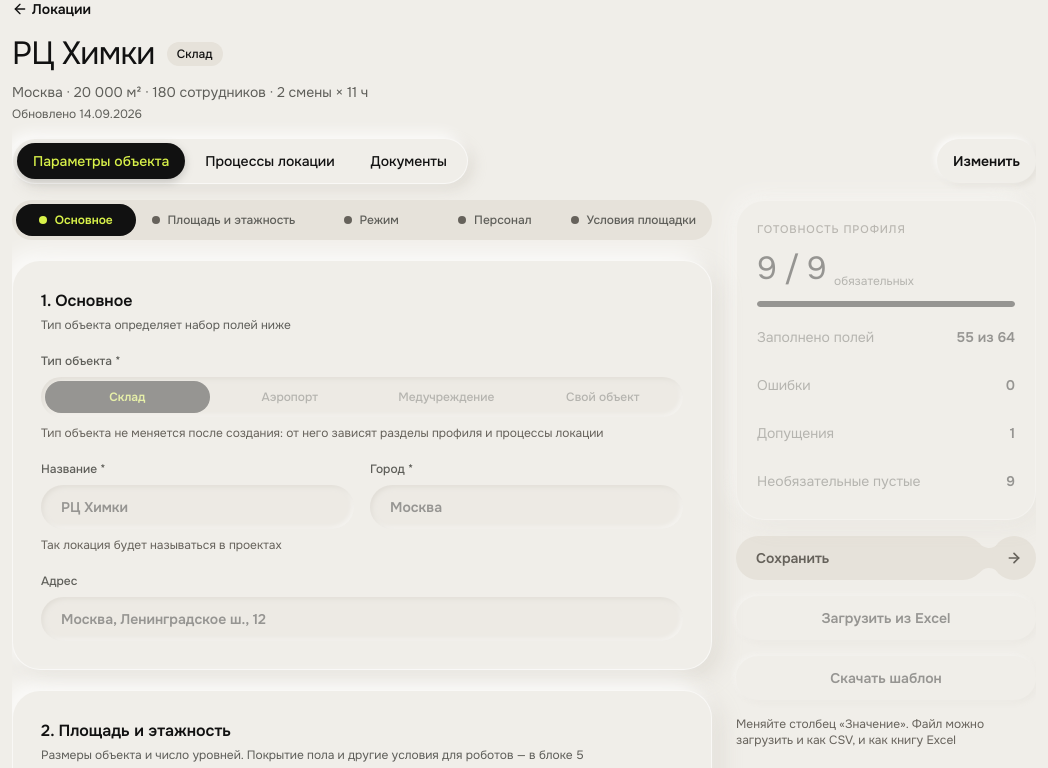
Test: LocationParamsPage (экран 17а) › discards changes on «Отменить изменения»
Click the button with aria-label "Изменить параметры объекта" at (987, 161), box left=937, top=139, right=1036, bottom=183
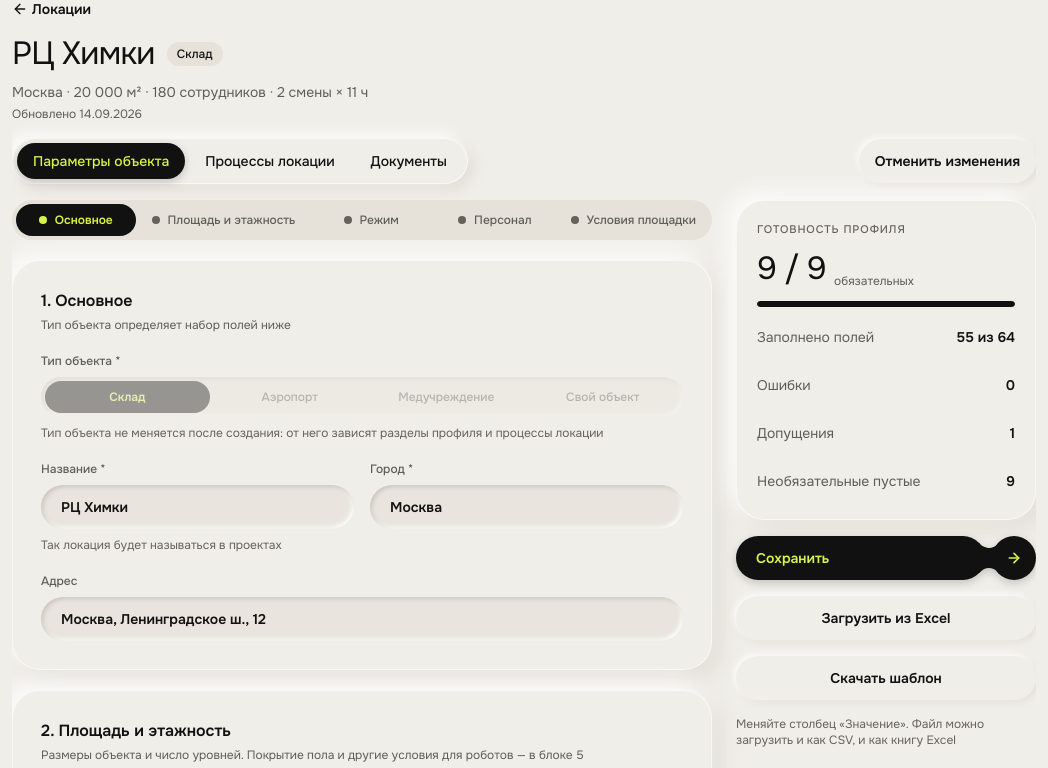
Replace the text in the field labelled "Название *" with "Черновик" at (198, 507), box left=61, top=497, right=334, bottom=517
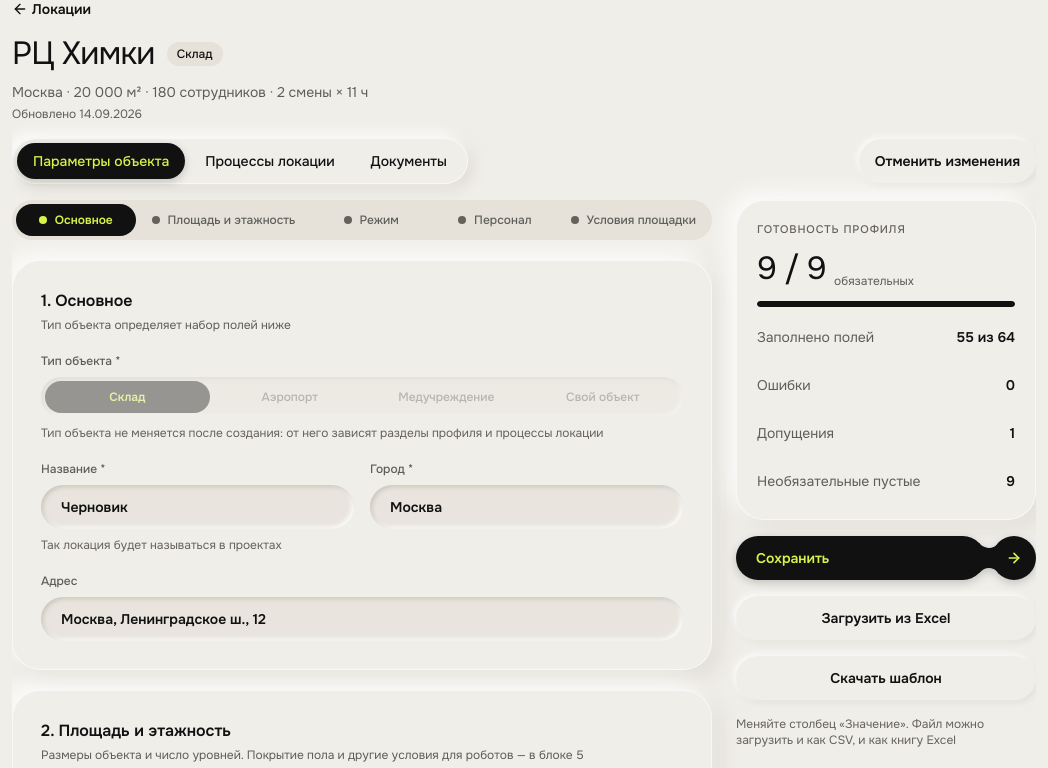
Click the button "Отменить изменения" at (947, 161), box left=859, top=139, right=1036, bottom=183
(page scrolled)
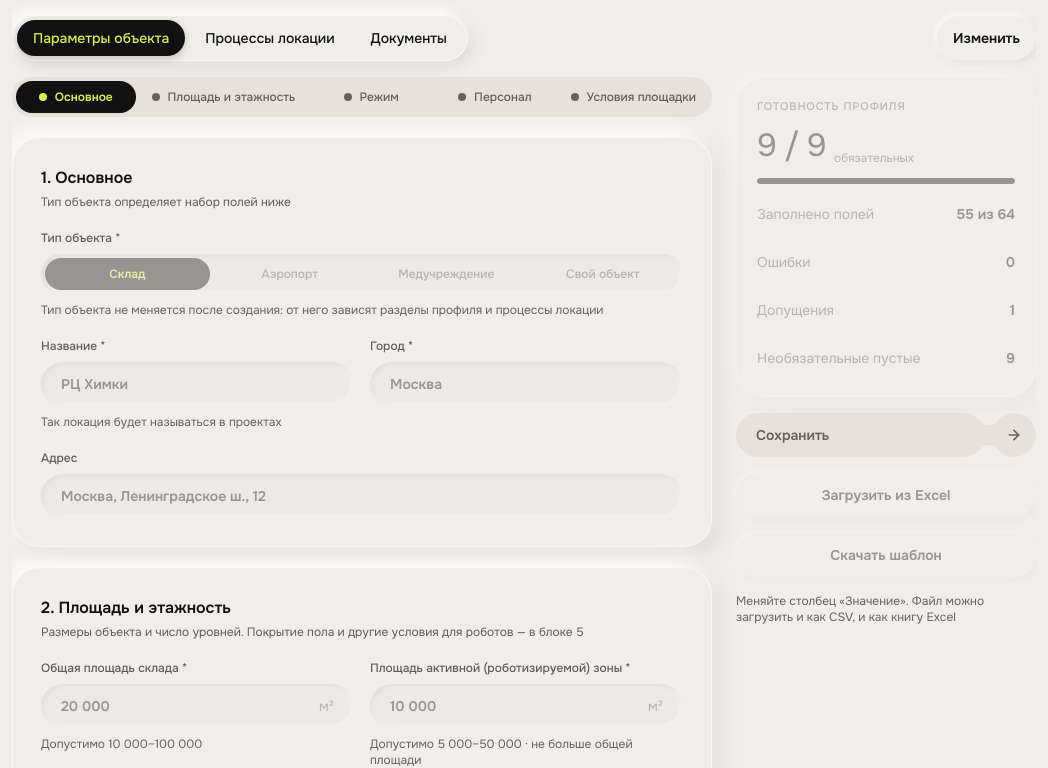
Expected: the field labelled "Название *" is disabled, left=61, top=374, right=334, bottom=394
Expected: the field labelled "Название *" holds "РЦ Химки", left=61, top=374, right=334, bottom=394
